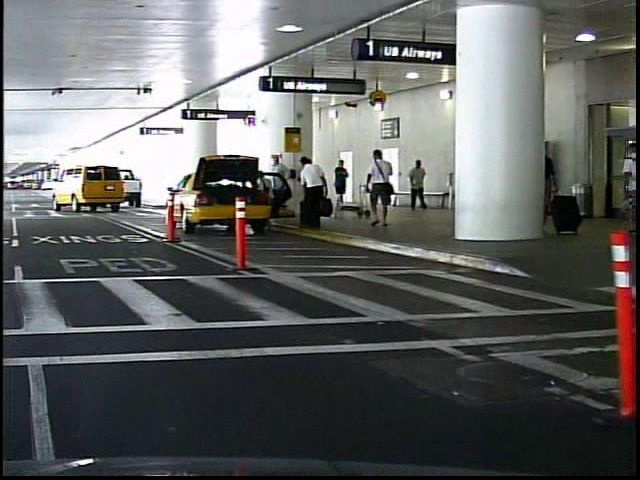person: (358, 145, 395, 231), (405, 153, 425, 215)
